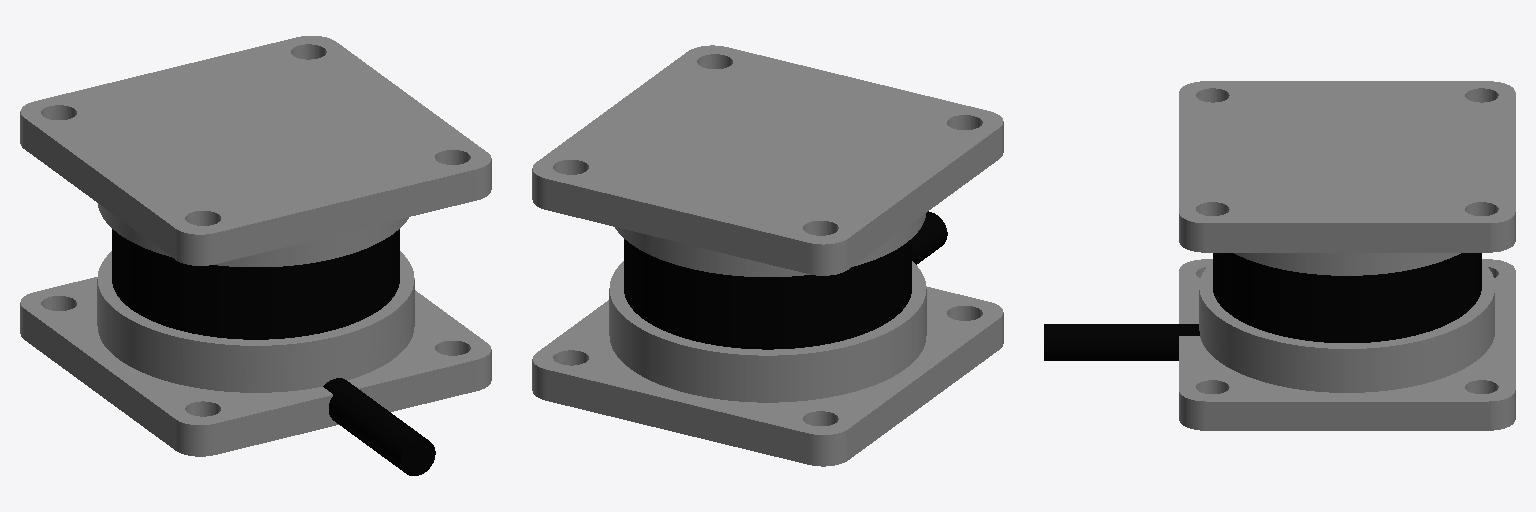
The robot description file, URDF, robot "optoforce_omd_20_fe_200n":
<?xml version="1.0"?>
<robot name="optoforce_omd_20_fe_200n" xmlns:xacro="http://www.ros.org/wiki/xacro">

	<link name="sensor_link">
		<visual>
			<origin xyz="0 0 0" rpy="0 0 0"/>
			<geometry>
				<mesh filename="package://optoforce_wrapper/meshes/omd_20_fe_200n.dae"/>
			</geometry>
		</visual>
	</link>

</robot>

--- What the picture shows (computed from the rendered views, not written in the file) ---
The picture shows the robot from 3 angles, left to right: view 1: azimuth 30°, elevation 25°; view 2: azimuth 150°, elevation 25°; view 3: azimuth 270°, elevation 25°; orthographic projection.
Model optoforce_omd_20_fe_200n with 1 links and 0 joints (none), rooted at sensor_link, posed all joints at 0.
Links seen in each view (by area): view 1: sensor_link; view 2: sensor_link; view 3: sensor_link.
Boxes of the visible links, <box> form: sensor_link: <box>20,36,491,475</box>; sensor_link: <box>532,45,1003,466</box>; sensor_link: <box>1044,81,1515,430</box>.
Size in the robot's own frame: 0.025 by 0.035 by 0.017 metres.
Meshes: 1 distinct files referenced, 1 mesh visuals loaded (1 Collada DAE).